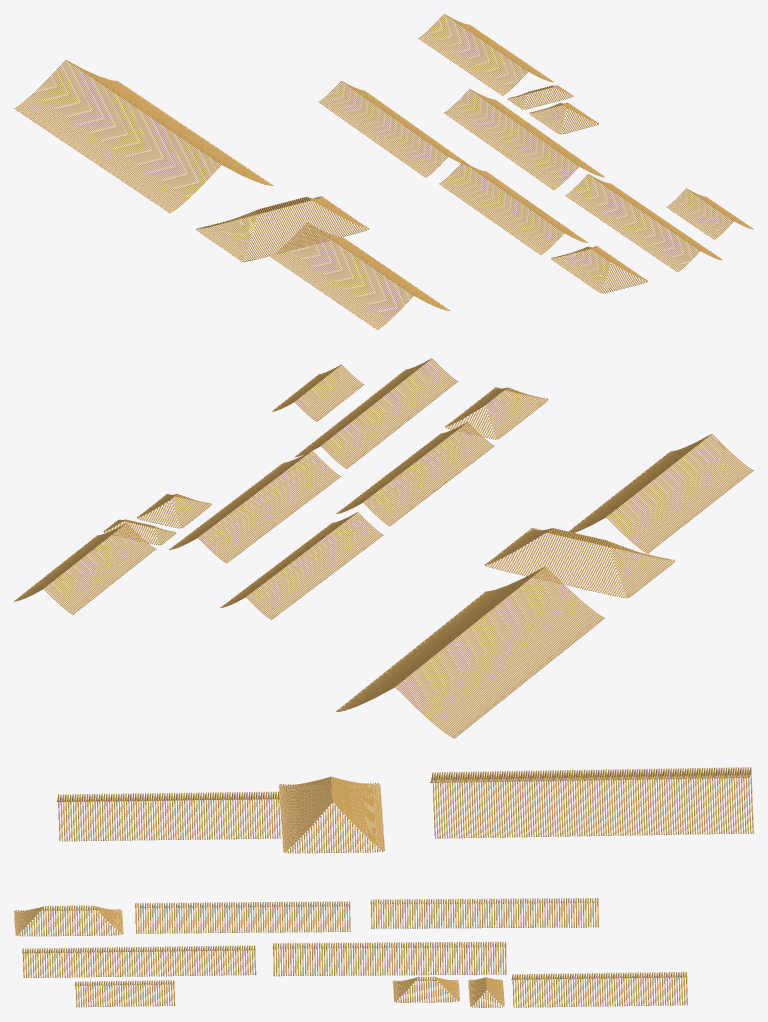
File: roof-tiles-0-5.glb
3 renders of one model, top to bottom at view 1: azimuth 30°, elevation 25°; view 2: azimuth 150°, elevation 25°; view 3: azimuth 270°, elevation 25°, orthographic. The views are drawn at different scales.
Parts seen in each view (by area): view 1: roof-tiles-0-5_micro_Roof_Glazed_Ochre; view 2: roof-tiles-0-5_micro_Roof_Glazed_Ochre; view 3: roof-tiles-0-5_micro_Roof_Glazed_Ochre.
Part boxes in pixels (<box>): roof-tiles-0-5_micro_Roof_Glazed_Ochre: <box>14,14,753,329</box>; roof-tiles-0-5_micro_Roof_Glazed_Ochre: <box>14,358,753,738</box>; roof-tiles-0-5_micro_Roof_Glazed_Ochre: <box>14,767,753,1007</box>.
Bounding box in the file's own units: 0.8991 × 0.0704 × 1.22.
